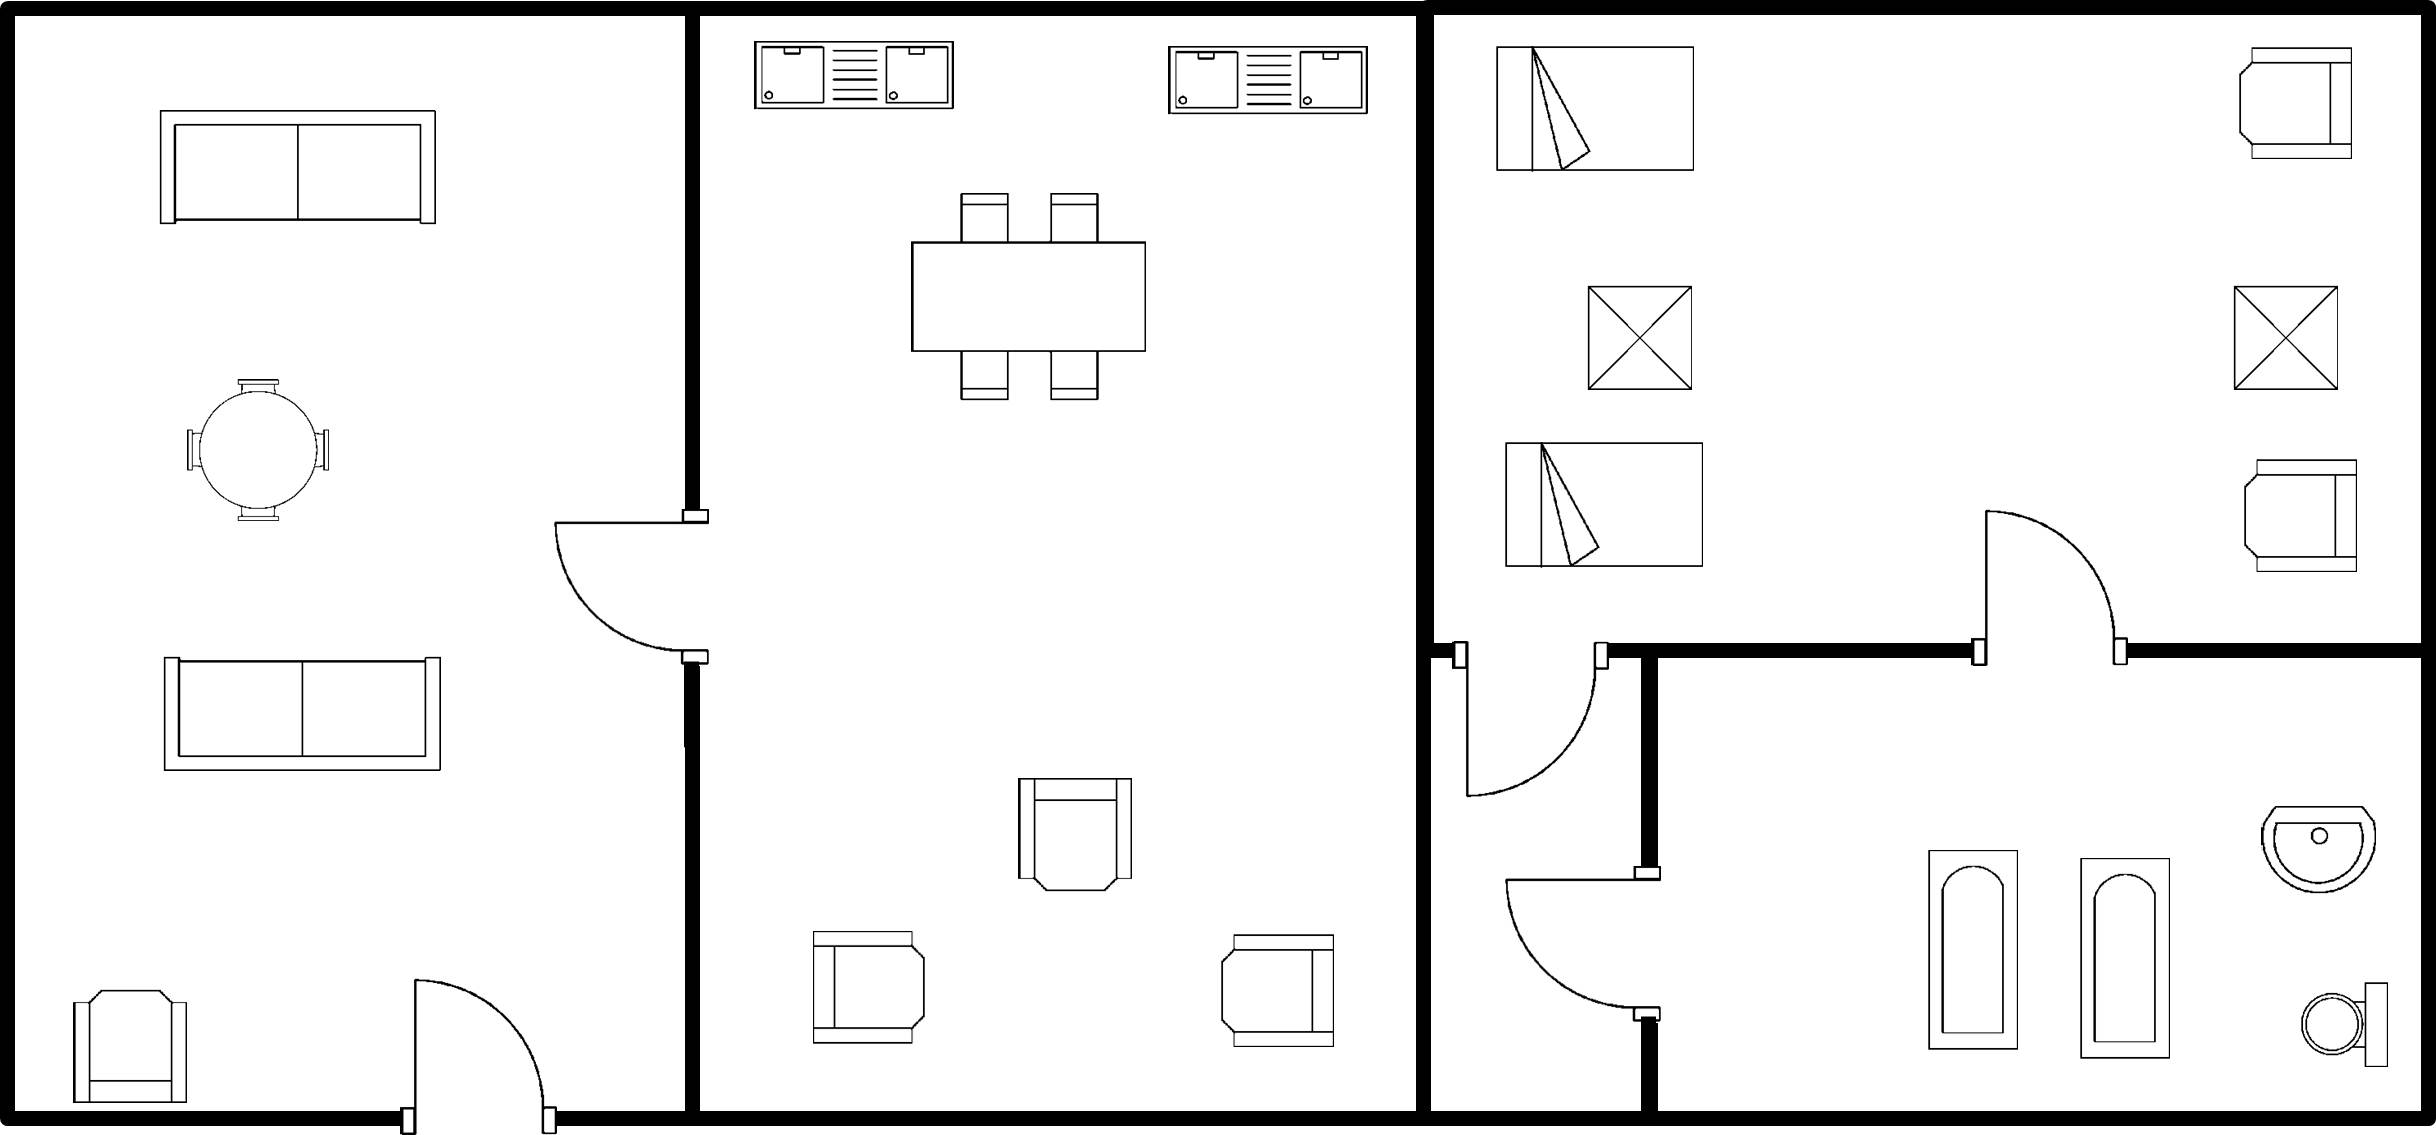armchair: (2216, 32, 2371, 174), (54, 975, 208, 1115), (997, 763, 1144, 905), (1204, 922, 1347, 1065), (792, 915, 939, 1055), (2228, 443, 2368, 586)
bed: (1487, 427, 1716, 591), (1483, 34, 1709, 189)
coffee_table: (2213, 267, 2354, 403), (1571, 275, 1699, 401)
dining_table: (892, 172, 1161, 410)
large_sink: (2287, 970, 2401, 1077)
large_sofa: (139, 98, 449, 239), (147, 646, 458, 784)
round_table: (175, 367, 349, 537)
small_sink: (2249, 786, 2387, 903)
tub: (1913, 839, 2028, 1063), (2068, 848, 2178, 1070)
twin_sink: (739, 25, 971, 127), (1151, 34, 1378, 129)
